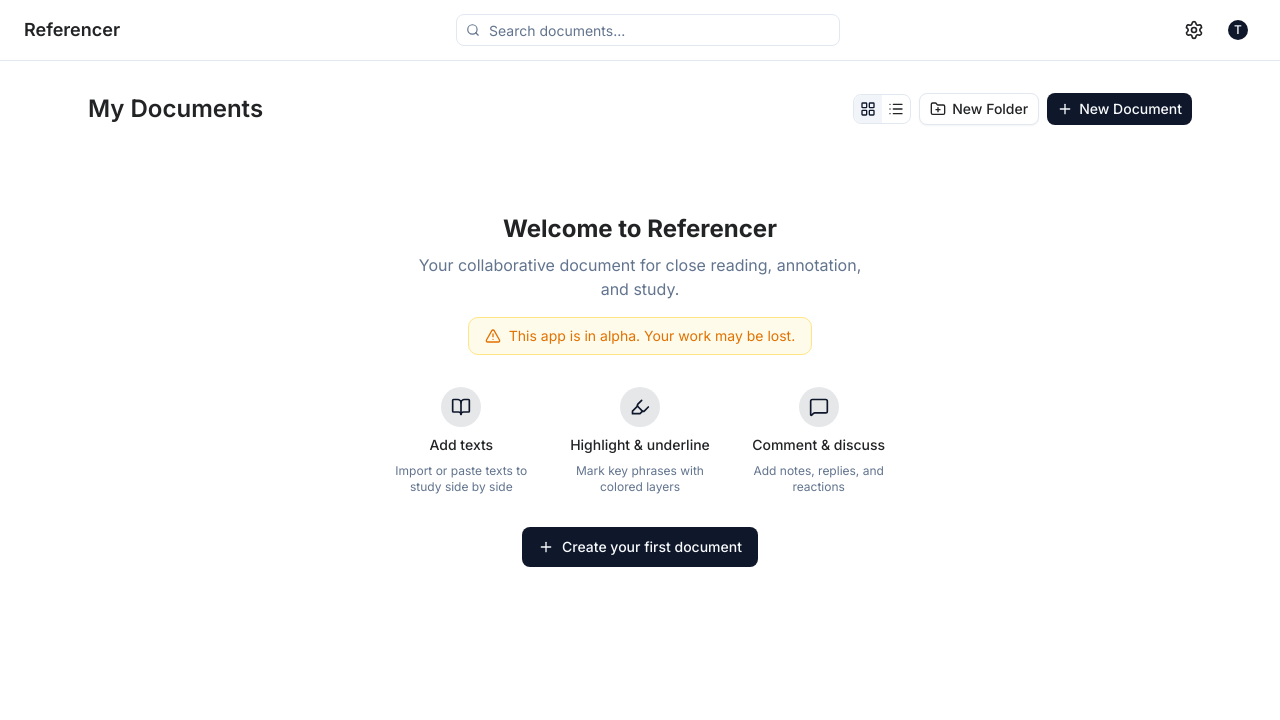
Scenario: HubPage › when user is authenticated › then opens the new document dialog when 'New Document' is clicked
The width and height of the screenshot is (1280, 720).
Click the button with test id "newDocumentButton".
click(1120, 109)  # box [1047,93,1192,125]
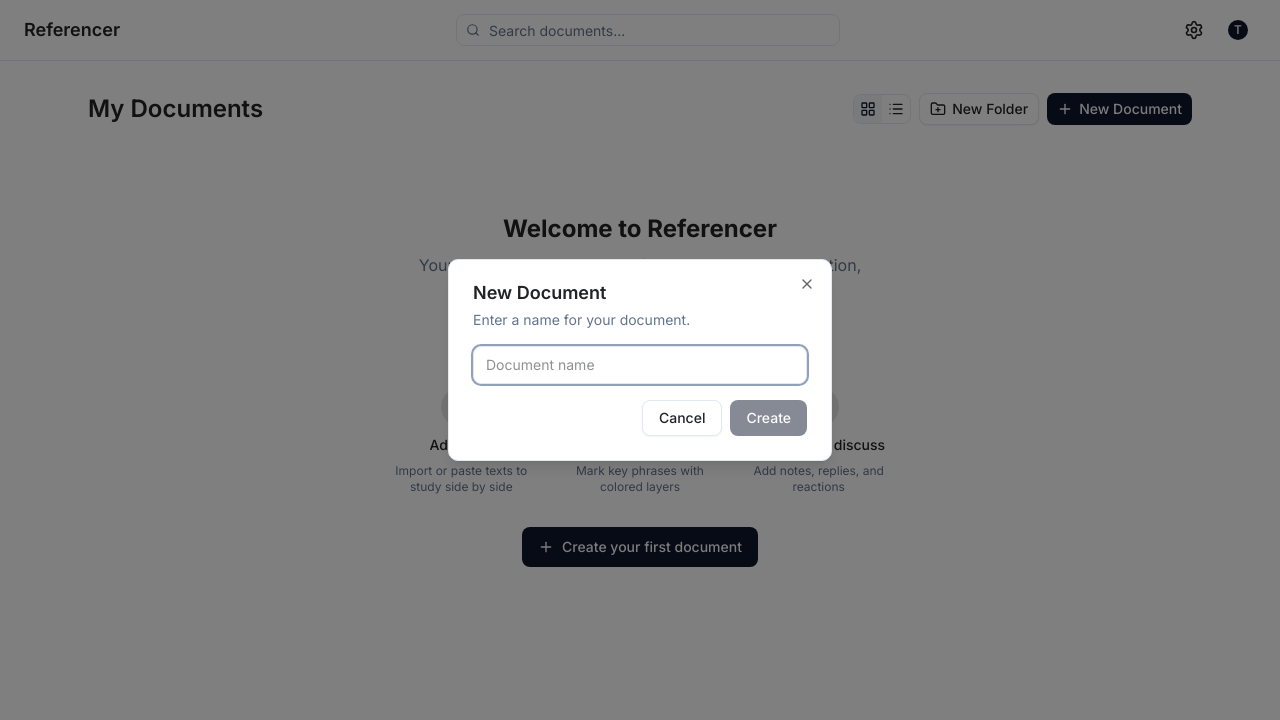
Now the dialog with test id "newDocumentDialog" is shown, box [448,259,832,461]
Now the field with test id "newDocumentNameInput" is shown, box [473,346,807,384]
